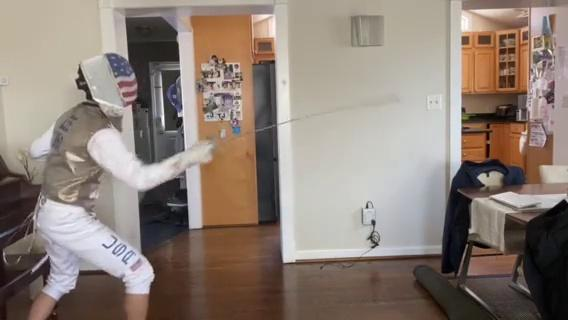blade-guard: (203, 134, 223, 156)
blade-tip: (354, 98, 401, 111)
fencing-blade: (191, 96, 400, 158)
